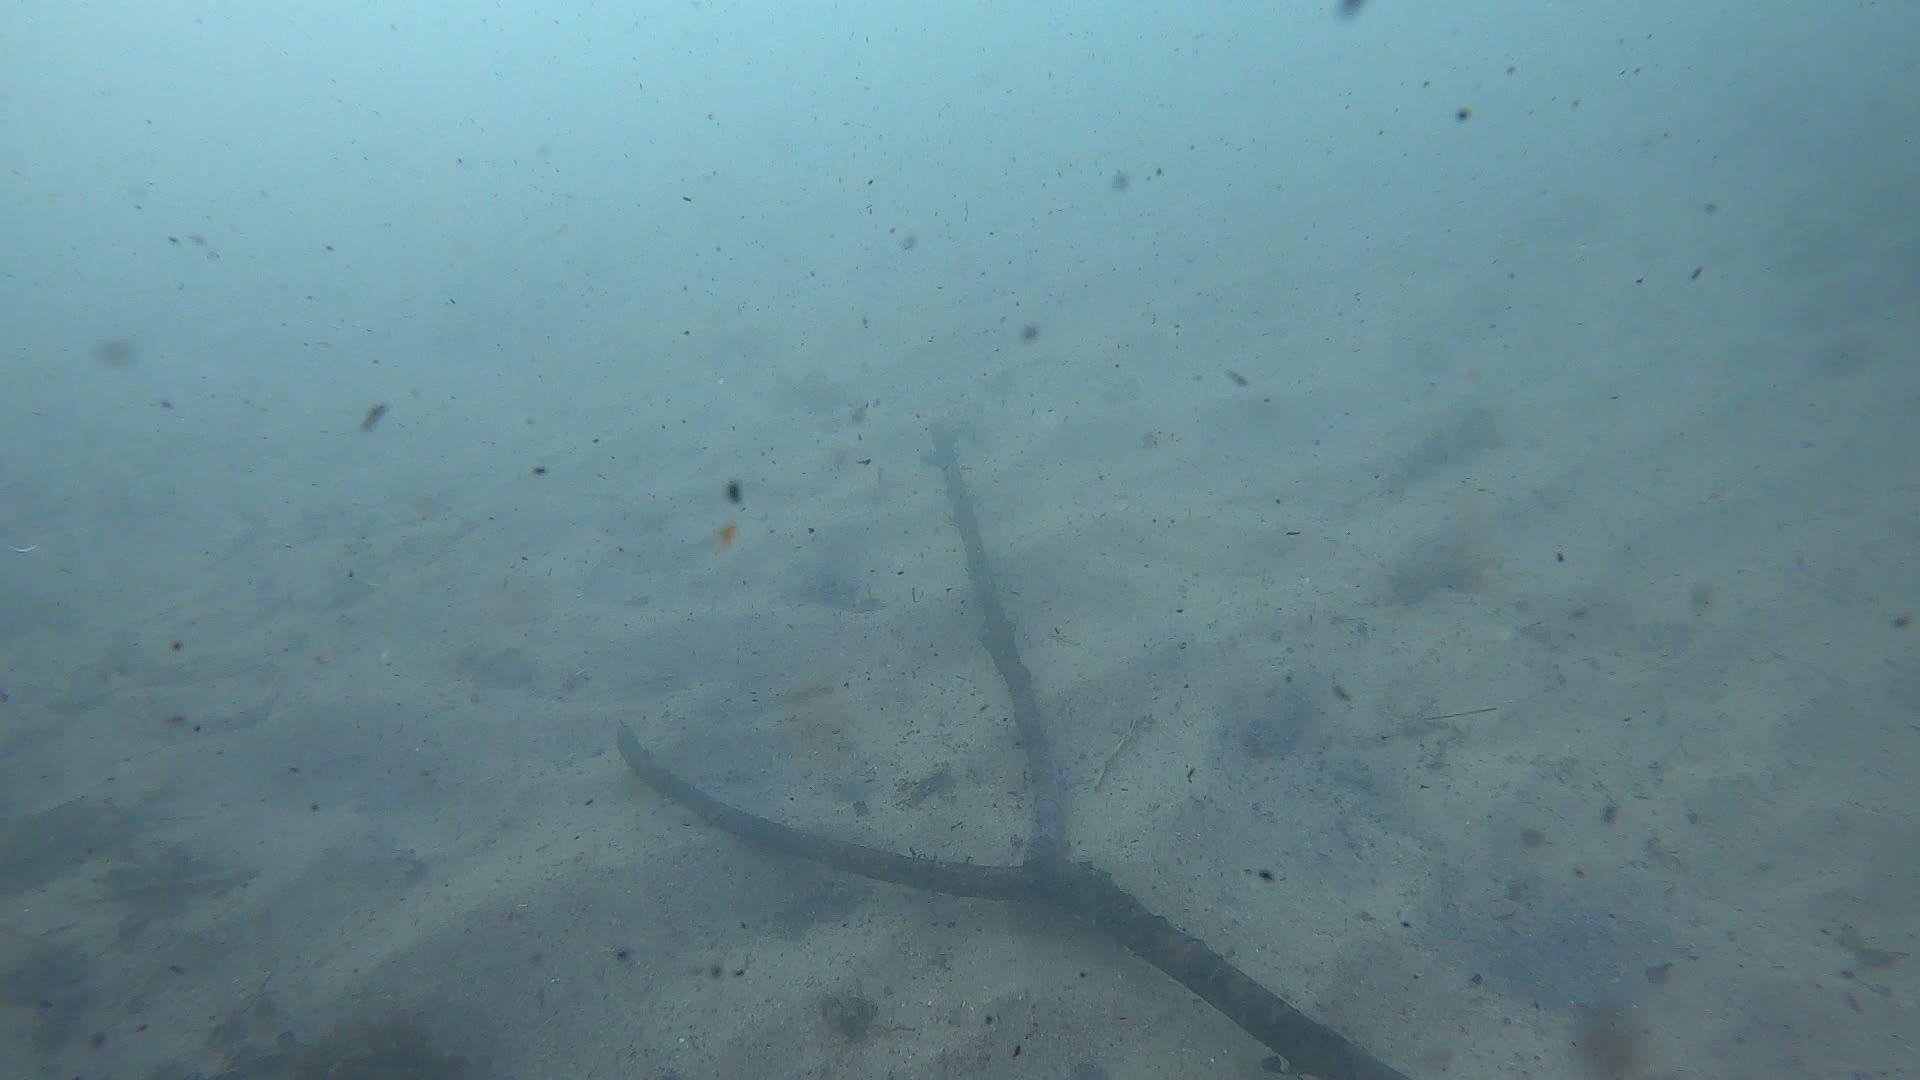wood: (618, 433, 1408, 1080)
